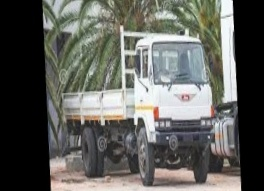truck: (54, 12, 224, 191)
